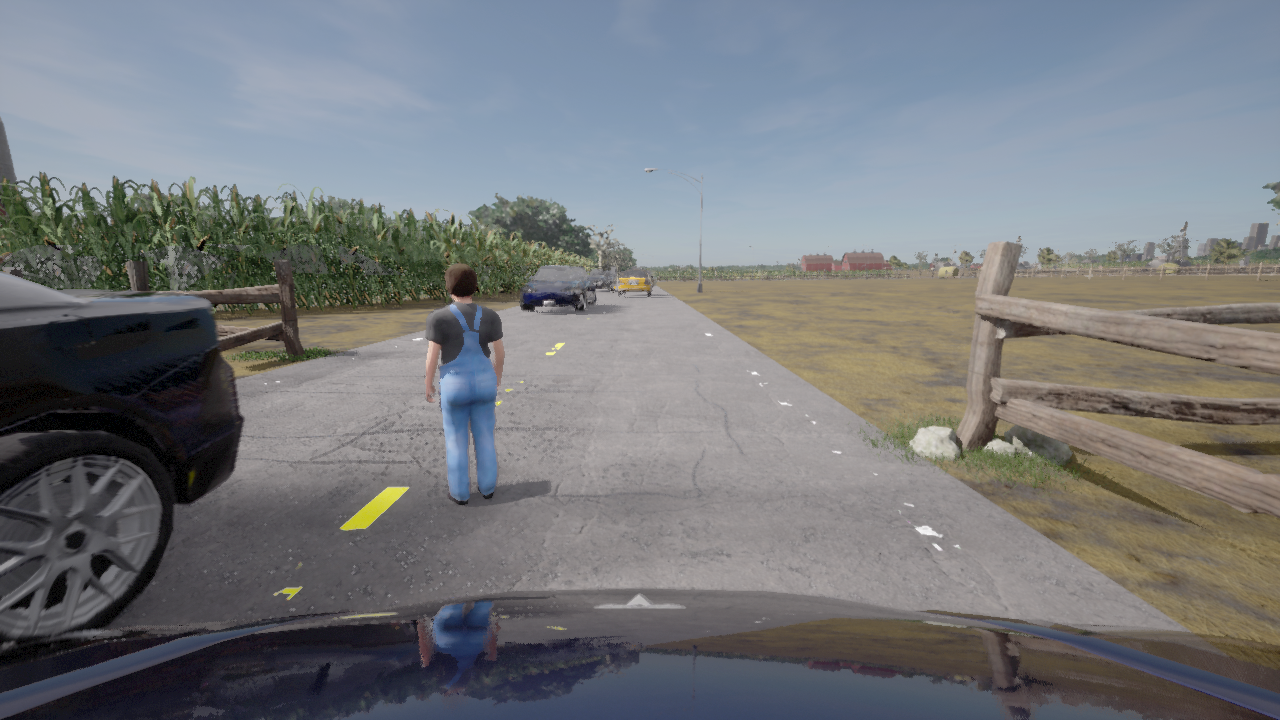cyclist: (0, 588, 1279, 719), (520, 266, 594, 311), (618, 267, 652, 295), (589, 270, 615, 291), (646, 271, 654, 286)
pedestrian: (424, 263, 503, 505)
